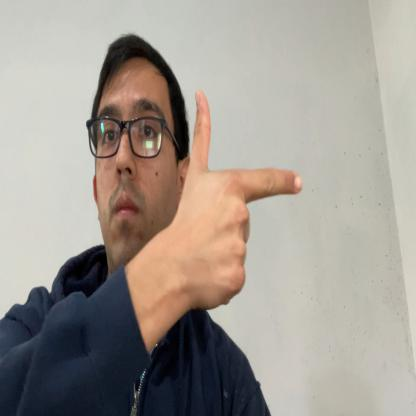G: (182, 89, 302, 311)
